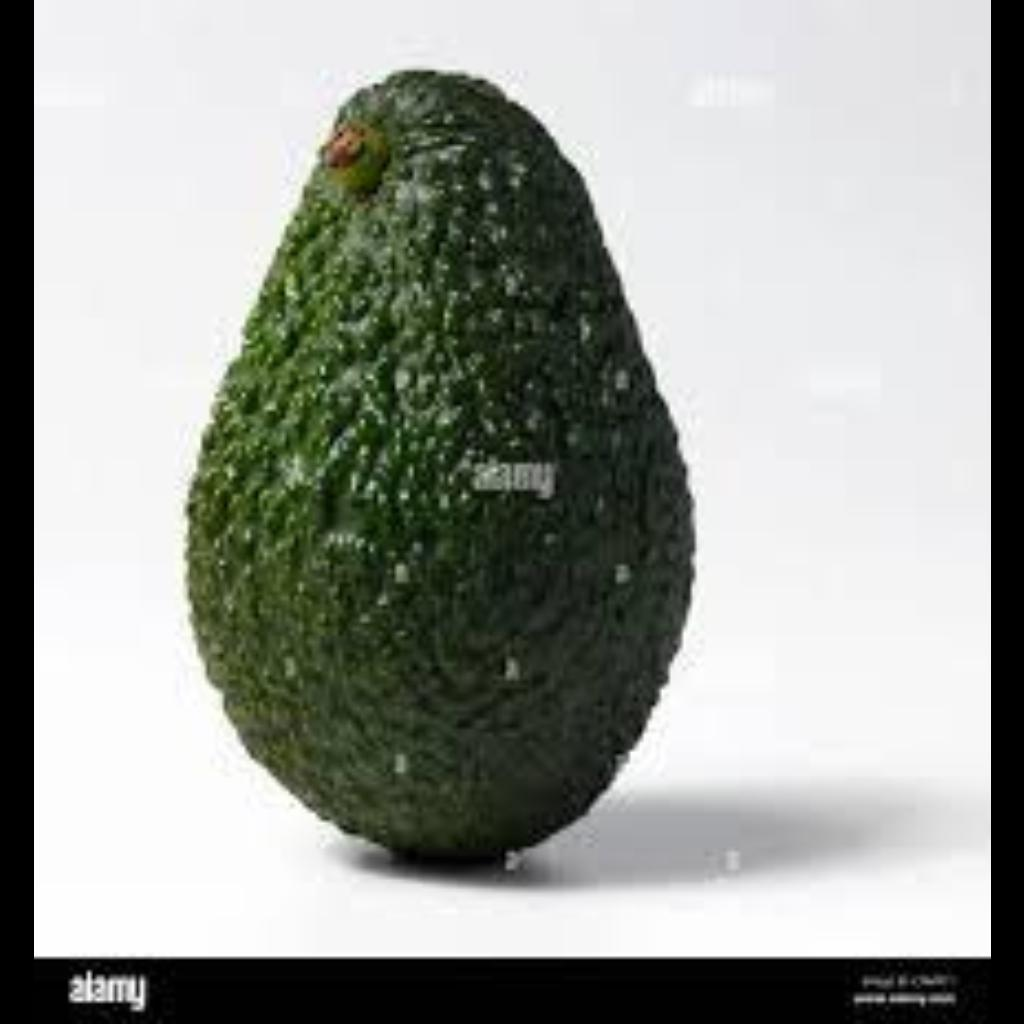cercospora_spot: (187, 75, 677, 843)
